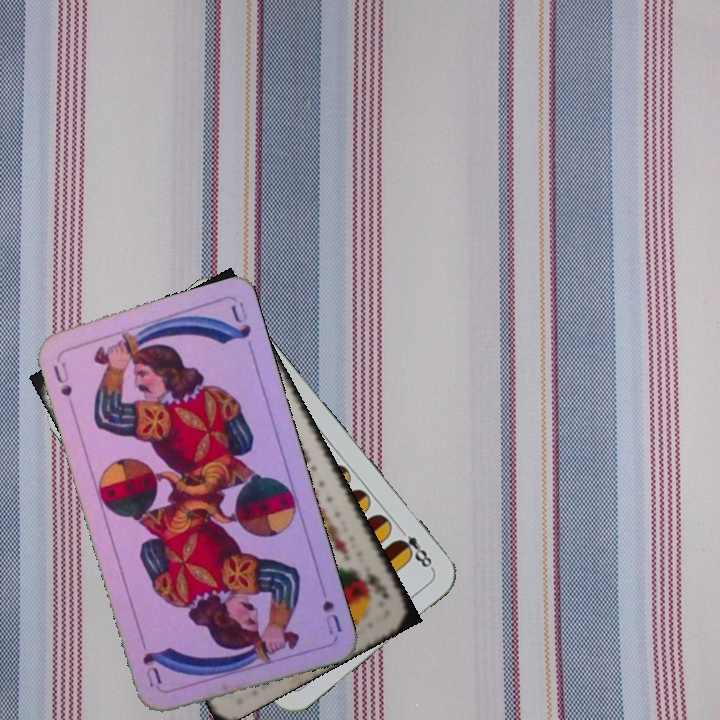E8: (392, 522, 436, 572)
SK: (361, 569, 391, 602)
SU: (315, 578, 344, 637), (49, 358, 75, 400)
